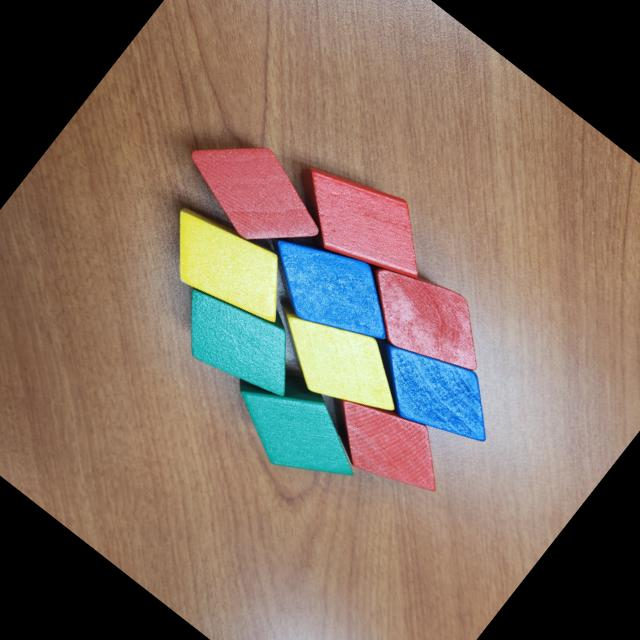blue: (246, 211, 414, 370), (350, 314, 514, 468)
green: (209, 342, 382, 506), (159, 262, 327, 422)
red: (274, 140, 450, 304), (170, 112, 340, 272), (344, 244, 506, 394), (306, 370, 464, 518)
yellow: (244, 276, 424, 442), (143, 190, 308, 344)
